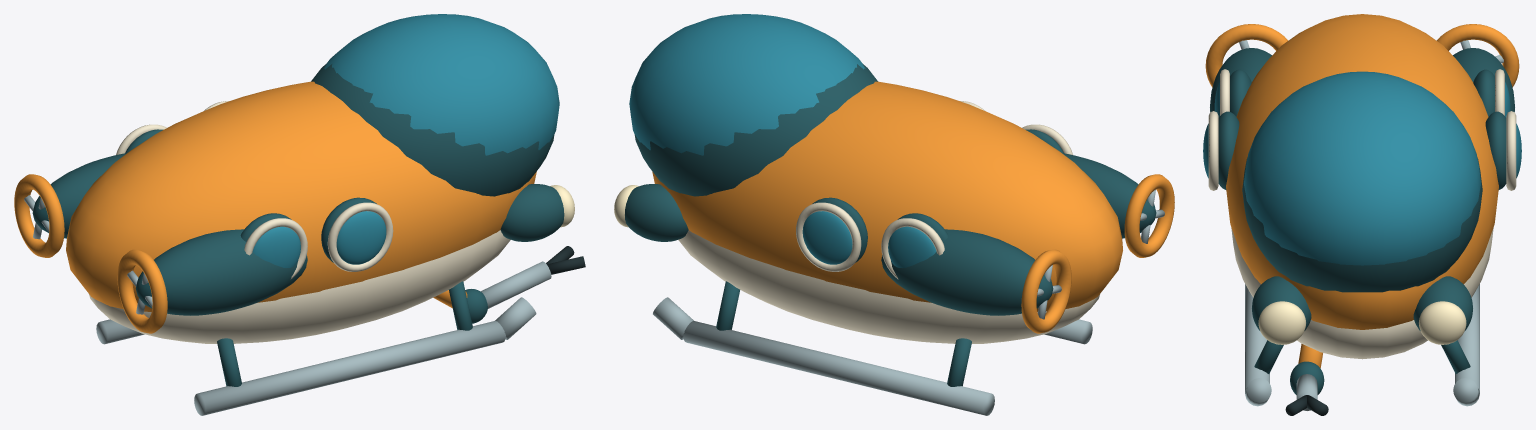
Rendered from echo-hull.glb.
3 renders of one model, left to right at view 1: azimuth 30°, elevation 25°; view 2: azimuth 150°, elevation 25°; view 3: azimuth 270°, elevation 25°, orthographic. The views are drawn at different scales.
Visible parts, largest first — view 1: Pressure hull, Panoramic canopy, Lower fairing, Jet pod, Canopy bezel, Landing skid, Lamp housing, Pump jet shroud, Pump jet shroud.001, Jet pod.001, Port lens.001, Machined porthole rim.001 (+9 smaller); view 2: Pressure hull, Panoramic canopy, Lower fairing, Jet pod.001, Canopy bezel, Landing skid.001, Lamp housing.001, Pump jet shroud.001, Pump jet shroud, Jet pod, Port lens.003, Machined porthole rim.003 (+7 smaller); view 3: Panoramic canopy, Pressure hull, Canopy bezel, Lower fairing, Pump jet shroud, Pump jet shroud.001, Lamp lens, Lamp lens.001, Lamp housing, Lamp housing.001, Landing skid, Landing skid.001 (+17 smaller).
Part boxes in pixels (x1,y1,x2,y2): Pressure hull: (66, 81, 536, 311); Panoramic canopy: (323, 14, 559, 155); Lower fairing: (89, 230, 510, 343); Jet pod: (135, 229, 307, 315); Canopy bezel: (311, 63, 554, 196); Landing skid: (194, 321, 505, 415); Lamp housing: (500, 184, 564, 241); Pump jet shroud: (117, 249, 167, 333); Pump jet shroud.001: (14, 174, 64, 257); Jet pod.001: (32, 153, 126, 238); Port lens.001: (336, 211, 386, 264); Machined porthole rim.001: (327, 202, 393, 271); Pressure hull: (652, 81, 1122, 311); Panoramic canopy: (629, 14, 865, 155); Lower fairing: (678, 230, 1099, 343); Jet pod.001: (881, 229, 1053, 315); Canopy bezel: (634, 64, 877, 196); Landing skid.001: (683, 321, 994, 415); Lamp housing.001: (625, 184, 688, 241); Pump jet shroud.001: (1021, 249, 1071, 333); Pump jet shroud: (1124, 174, 1174, 257); Jet pod: (1062, 153, 1156, 238); Port lens.003: (802, 211, 852, 264); Machined porthole rim.003: (796, 202, 861, 271); Panoramic canopy: (1243, 71, 1481, 265); Pressure hull: (1226, 14, 1498, 329); Canopy bezel: (1242, 157, 1482, 292); Lower fairing: (1231, 228, 1493, 359); Pump jet shroud: (1205, 24, 1288, 87); Pump jet shroud.001: (1436, 24, 1519, 87); Lamp lens: (1258, 301, 1305, 344); Lamp lens.001: (1419, 301, 1466, 344); Lamp housing: (1252, 276, 1311, 330); Lamp housing.001: (1413, 276, 1472, 330); Landing skid: (1245, 284, 1269, 393); Landing skid.001: (1455, 284, 1479, 393).
Size of the model in its own units: 3.11 by 1.77 by 1.67.
